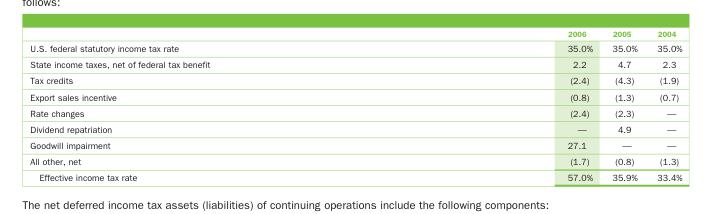table: (29, 29, 681, 182)
table column: (29, 29, 388, 182), (388, 29, 601, 182), (601, 29, 646, 182), (646, 29, 681, 182)
table column header: (29, 29, 681, 40)
table row: (29, 136, 681, 153), (29, 40, 681, 56), (29, 56, 681, 72), (29, 72, 681, 88), (29, 88, 681, 104), (29, 104, 681, 120), (29, 120, 681, 136), (29, 153, 681, 169), (29, 169, 681, 182), (29, 29, 681, 40)
